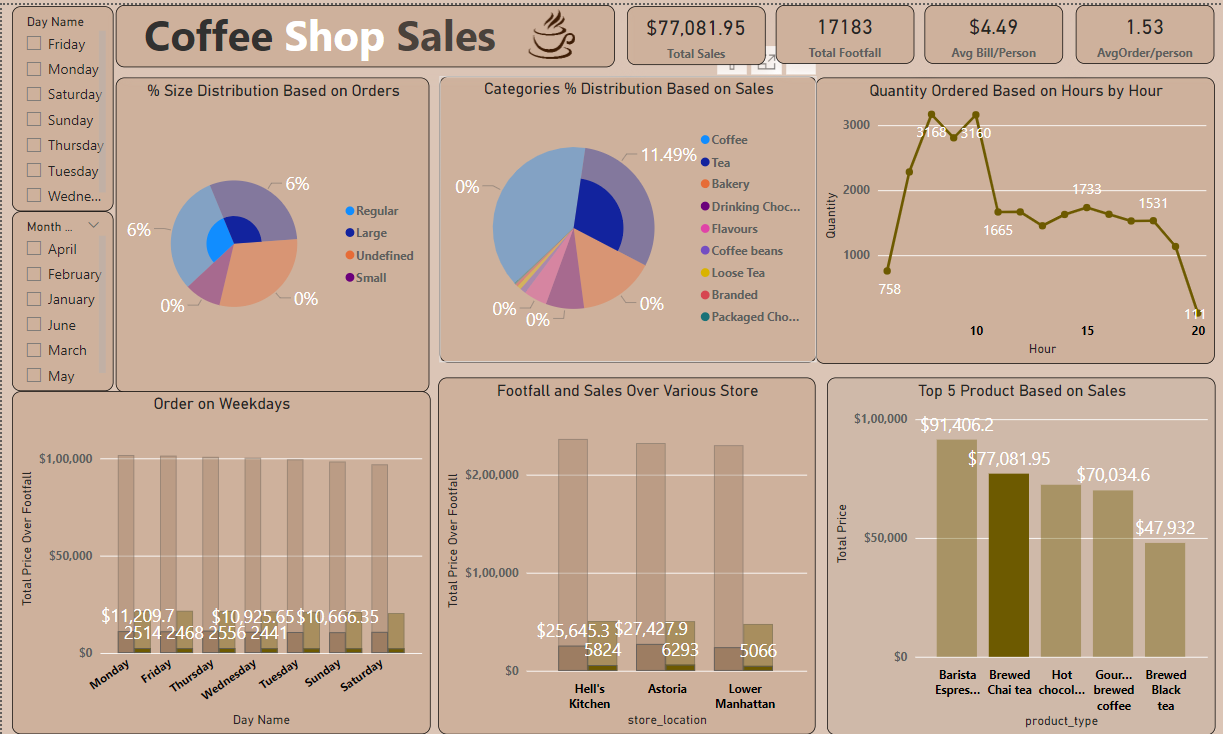

The dashboard page shown, as its layout file describes it:
{"tool":"powerbi","page":{"name":"Dashboard","canvas":[1400,850],"ordinal":0},"visuals":[{"type":"lineChart","fields":{"Category":["Transactions.Hour"],"Y":["Sum(Transactions.transaction_qty)"]},"box":[930,82.9,455.7,327.1],"z":0},{"type":"slicer","fields":{"Values":["Transactions.Month Name"]},"box":[11.4,235.7,115.7,205.7],"z":1000},{"type":"slicer","fields":{"Values":["Transactions.Day Name"]},"box":[11.4,1.4,115.7,234.3],"z":2000},{"type":"pieChart","title":"Categories % Distribution Based on Sales","fields":{"Category":["Transactions.product_category"],"Y":["Sum(Transactions.transaction_id)"]},"box":[500,82,431,327],"z":3000},{"type":"pieChart","title":"% Size Distribution Based  on Orders","fields":{"Category":["Transactions.Size"],"Y":["CountNonNull(Transactions.transaction_qty)"]},"box":[130,82.5,358.8,360],"z":4000},{"type":"clusteredColumnChart","title":"Footfall and Sales Over Various Store","fields":{"Category":["Transactions.store_location"],"Y":["Sum(Transactions.Total_price)","CountNonNull(Transactions.transaction_qty)"]},"box":[499,425,431,408],"z":5000},{"type":"columnChart","title":"Top 5 Product Based on Sales","fields":{"Category":["Transactions.product_type"],"Y":["Sum(Transactions.Total_price)"]},"box":[943,425,444,409],"z":6000},{"type":"clusteredColumnChart","title":"Order on Weekdays","fields":{"Category":["Transactions.Day Name"],"Y":["Sum(Transactions.Total_price)","CountNonNull(Transactions.transaction_qty)"]},"box":[11,442,478,392],"z":7000},{"type":"card","fields":{"Values":["Sum(Transactions.Total_price)"]},"box":[714.3,1.4,158.6,67.1],"z":8000},{"type":"card","fields":{"Values":["CountNonNull(Transactions.transaction_qty)"]},"box":[884.3,0,158.6,67.1],"z":9000},{"type":"card","fields":{"Values":["Transactions.Avg_bill_per"]},"box":[1054.3,0,158.6,67.1],"z":10000},{"type":"card","fields":{"Values":["Transactions.AvgOrder/person"]},"box":[1227.1,0,158.6,67.1],"z":11000},{"type":"textbox","box":[130,0,570,71.4],"z":12000},{"type":"image","box":[597.1,0,62.9,67.1],"z":13000}]}

Visuals, with their boxes in screenshot pixels (x1, y1, x2, y2), scaled from the page's 1400x850 canvas onto the 1223x734 screenshot:
lineChart - Transactions.Hour x Sum(Transactions.transaction_qty): [x1=812, y1=72, x2=1211, y2=354]
slicer - Transactions.Month Name: [x1=10, y1=204, x2=111, y2=381]
slicer - Transactions.Day Name: [x1=10, y1=1, x2=111, y2=204]
"Categories % Distribution Based on Sales" pieChart: [x1=437, y1=71, x2=813, y2=353]
"% Size Distribution Based  on Orders" pieChart: [x1=114, y1=71, x2=427, y2=382]
"Footfall and Sales Over Various Store" clusteredColumnChart: [x1=436, y1=367, x2=812, y2=719]
"Top 5 Product Based on Sales" columnChart: [x1=824, y1=367, x2=1212, y2=720]
"Order on Weekdays" clusteredColumnChart: [x1=10, y1=382, x2=427, y2=720]
card - Sum(Transactions.Total_price): [x1=624, y1=1, x2=763, y2=59]
card - CountNonNull(Transactions.transaction_qty): [x1=772, y1=0, x2=911, y2=58]
card - Transactions.Avg_bill_per: [x1=921, y1=0, x2=1060, y2=58]
card - Transactions.AvgOrder/person: [x1=1072, y1=0, x2=1211, y2=58]
textbox: [x1=114, y1=0, x2=612, y2=62]
image: [x1=522, y1=0, x2=577, y2=58]
